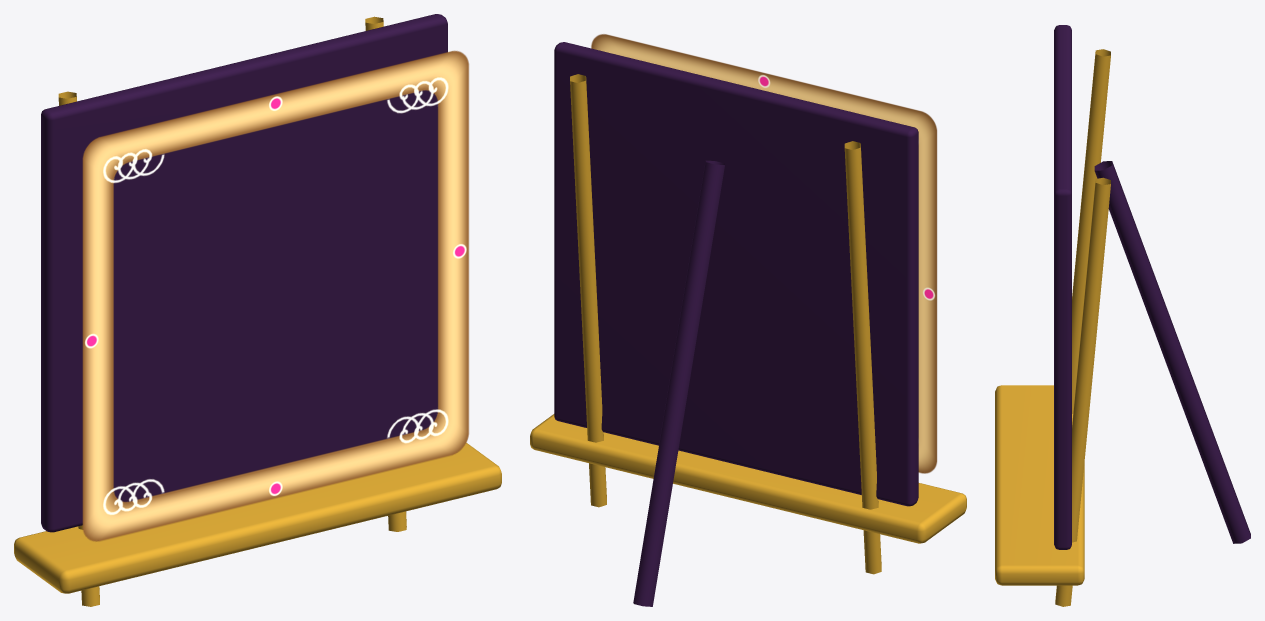
The model's file is profile.frame.gilt.glb.
3 views of the same model, side by side, from view 1: azimuth 30°, elevation 25°; view 2: azimuth 150°, elevation 25°; view 3: azimuth 270°, elevation 25° (orthographic). The views are drawn at different scales.
Visible parts, largest first — view 1: print_support, artwork, shelf_lip; view 2: print_support, shelf_lip, artwork, back_leg, easel_leg, easel_leg.001; view 3: shelf_lip, print_support, back_leg, easel_leg.001, easel_leg.
Boxes of the visible parts, left/top/right/bottom form: print_support: left=41, top=14, right=447, bottom=532; artwork: left=82, top=50, right=468, bottom=541; shelf_lip: left=14, top=442, right=501, bottom=593; print_support: left=554, top=42, right=918, bottom=506; shelf_lip: left=530, top=414, right=966, bottom=543; artwork: left=591, top=34, right=937, bottom=473; back_leg: left=633, top=160, right=724, bottom=606; easel_leg: left=844, top=141, right=881, bottom=574; easel_leg.001: left=570, top=74, right=606, bottom=507; shelf_lip: left=995, top=385, right=1084, bottom=585; print_support: left=1054, top=25, right=1071, bottom=549; back_leg: left=1094, top=161, right=1250, bottom=543; easel_leg.001: left=1055, top=177, right=1110, bottom=606; easel_leg: left=1072, top=49, right=1110, bottom=413.
Size of the model in its own units: 0.6764 by 0.75 by 0.3946.
Materials: 3 (1 with a texture image).
